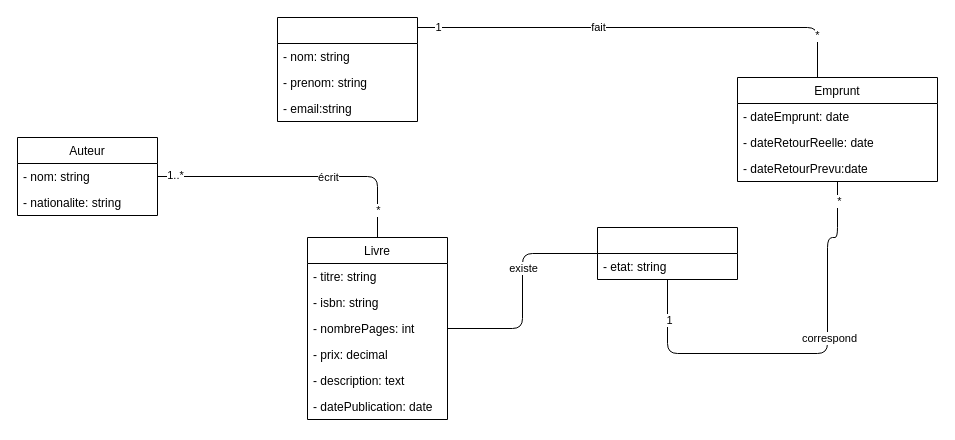
The diagram is 955 pixels wide and 440 high, and some of its shapes have lost their labels. The shapes that lost their labels are listed below. From the top down, each one's box as (x1, y1, x2, y2) in pixels, then its label:
(276, 16, 418, 122): Client
(596, 226, 738, 280): Exemplaire
